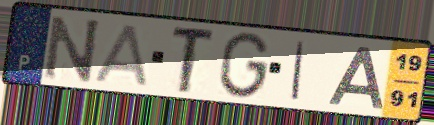A: (325, 44, 386, 111), (92, 22, 151, 89)
G: (216, 30, 273, 101)
I: (288, 39, 308, 102)
N: (41, 13, 103, 83)
T: (169, 26, 218, 95)
